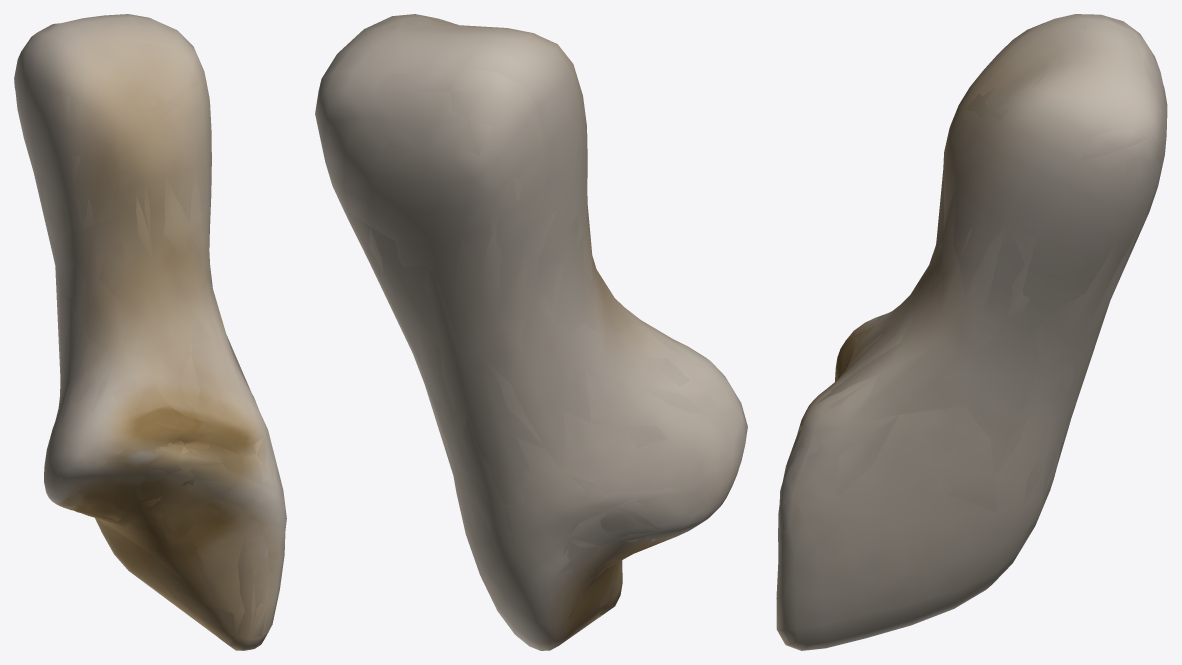
Rendered from L calcaneus.fbx.
3 renders of one model, left to right at view 1: azimuth 30°, elevation 25°; view 2: azimuth 150°, elevation 25°; view 3: azimuth 270°, elevation 25°, orthographic. The views are drawn at different scales.
Visible parts, largest first — view 1: L calcaneus, L calcaneus low; view 2: L calcaneus, L calcaneus low; view 3: L calcaneus, L calcaneus low.
Boxes of the visible parts, x1,y1,x2,y2 form: L calcaneus: (14, 14, 286, 650); L calcaneus low: (14, 17, 286, 645); L calcaneus: (315, 14, 747, 650); L calcaneus low: (317, 15, 747, 643); L calcaneus: (776, 14, 1167, 650); L calcaneus low: (778, 16, 1167, 647).
Bounding box in the file's own units: 2.07 × 4.78 × 2.8.
